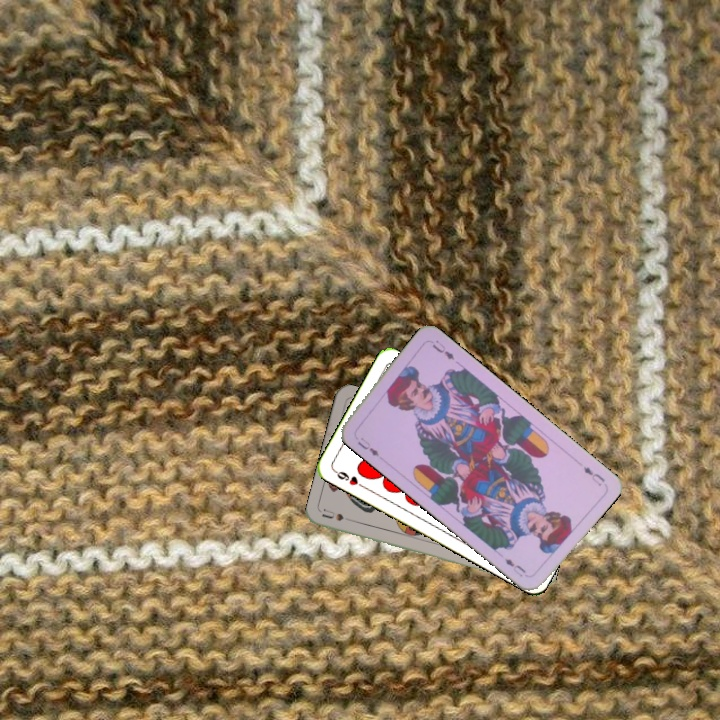EU: (579, 462, 607, 489), (353, 433, 382, 459)
H9: (330, 466, 368, 491)
SU: (319, 506, 359, 526)
